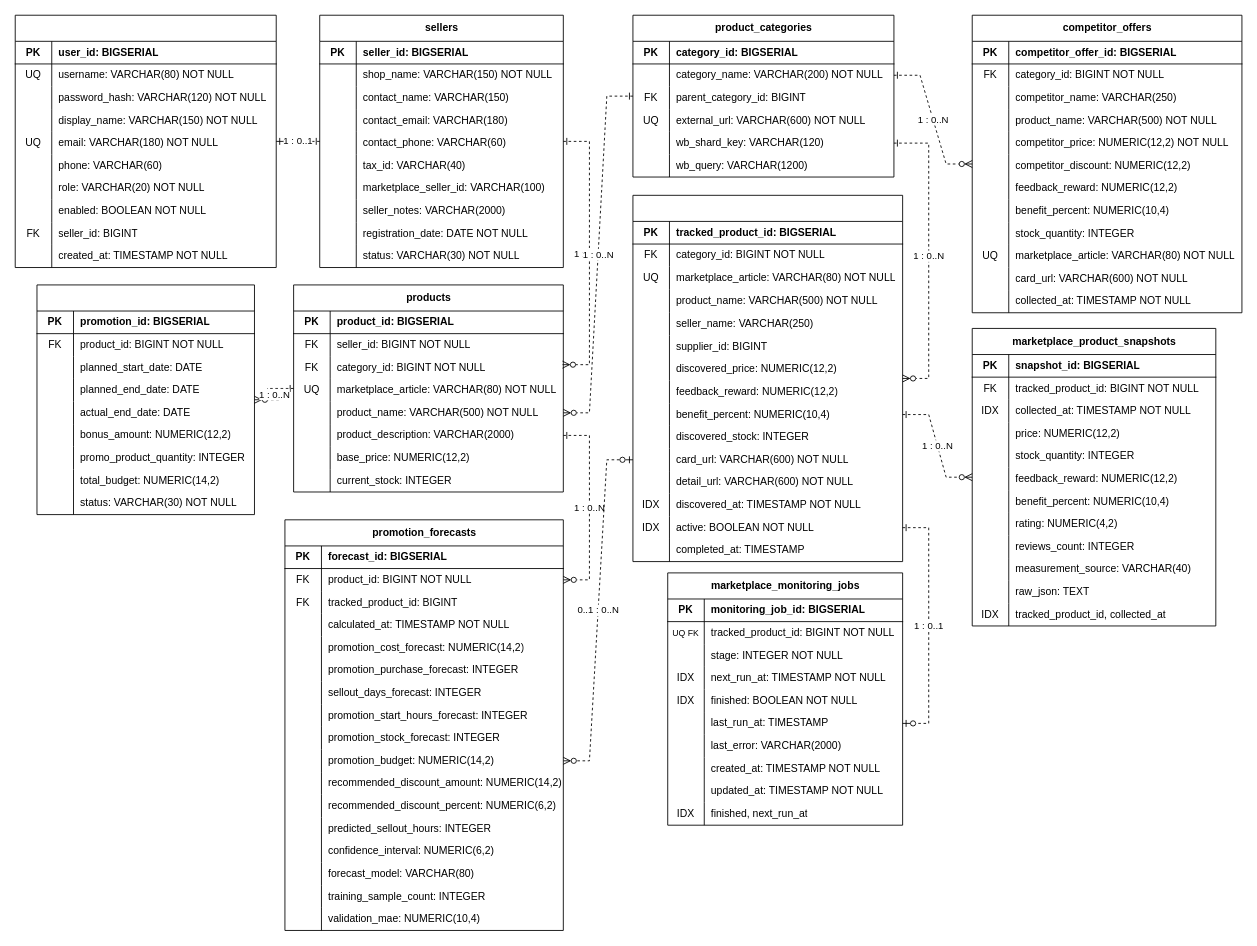
Some shapes in this 1257 by 946 pixel diagram are drawn without their labels. Here are the shapes that lost their labels. From the top down, the box of each, then its label:
(14, 14, 276, 268): app_users
(632, 194, 903, 562): tracked_marketplace_products
(36, 284, 254, 515): promotions
